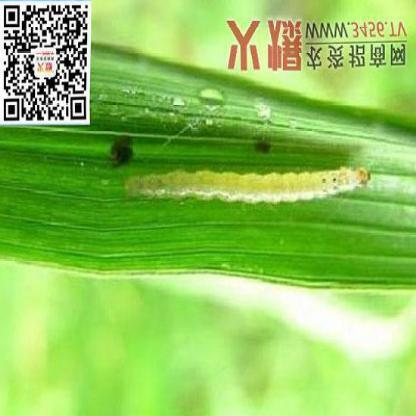leaf-folder: (112, 136, 376, 216)
